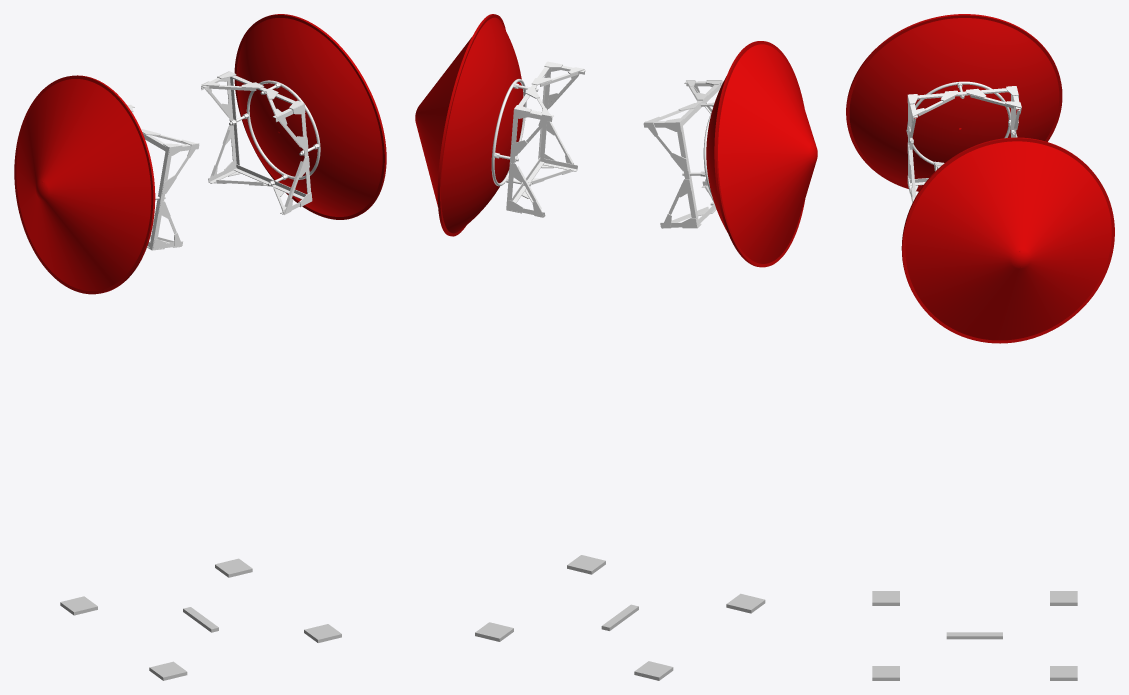
The model's file is 福地ダム.glb.
The picture shows the model from 3 angles, left to right: view 1: azimuth 30°, elevation 25°; view 2: azimuth 150°, elevation 25°; view 3: azimuth 270°, elevation 25°; orthographic projection. The views are drawn at different scales.
Visible parts, largest first — view 1: group_31.002, group_3.003, group_30.001, group_29.003, group_16.001, group_4.002, group_16; view 2: group_31.002, group_3.003, group_31.005, group_30.001, group_3, group_19.001, group_29.003, group_19, group_4.002; view 3: group_31.005, group_3, group_30.003, group_29.001, group_4, group_41, group_35, group_36, group_37, group_38.
Boxes of the visible parts, bbox=[...] form: group_31.002: bbox=[16, 79, 151, 290]; group_3.003: bbox=[236, 18, 382, 216]; group_30.001: bbox=[14, 75, 154, 294]; group_29.003: bbox=[234, 14, 385, 219]; group_16.001: bbox=[201, 77, 239, 183]; group_4.002: bbox=[246, 80, 320, 179]; group_16: bbox=[149, 143, 199, 249]; group_31.002: bbox=[718, 44, 817, 263]; group_3.003: bbox=[441, 17, 523, 233]; group_31.005: bbox=[415, 37, 471, 206]; group_30.001: bbox=[715, 41, 805, 267]; group_3: bbox=[706, 76, 727, 232]; group_19.001: bbox=[538, 65, 585, 171]; group_29.003: bbox=[439, 14, 505, 236]; group_19: bbox=[643, 121, 699, 227]; group_4.002: bbox=[491, 79, 526, 186]; group_31.005: bbox=[905, 141, 1111, 340]; group_3: bbox=[849, 18, 1059, 189]; group_30.003: bbox=[902, 138, 1114, 343]; group_29.001: bbox=[846, 14, 1062, 191]; group_4: bbox=[907, 81, 1010, 164]; group_41: bbox=[946, 632, 1002, 639]; group_35: bbox=[1050, 666, 1077, 680]; group_36: bbox=[1050, 591, 1077, 605]; group_37: bbox=[872, 591, 899, 605]; group_38: bbox=[872, 666, 899, 680].
Size of the model in its own units: 5.71 by 8.9 by 3.81.
